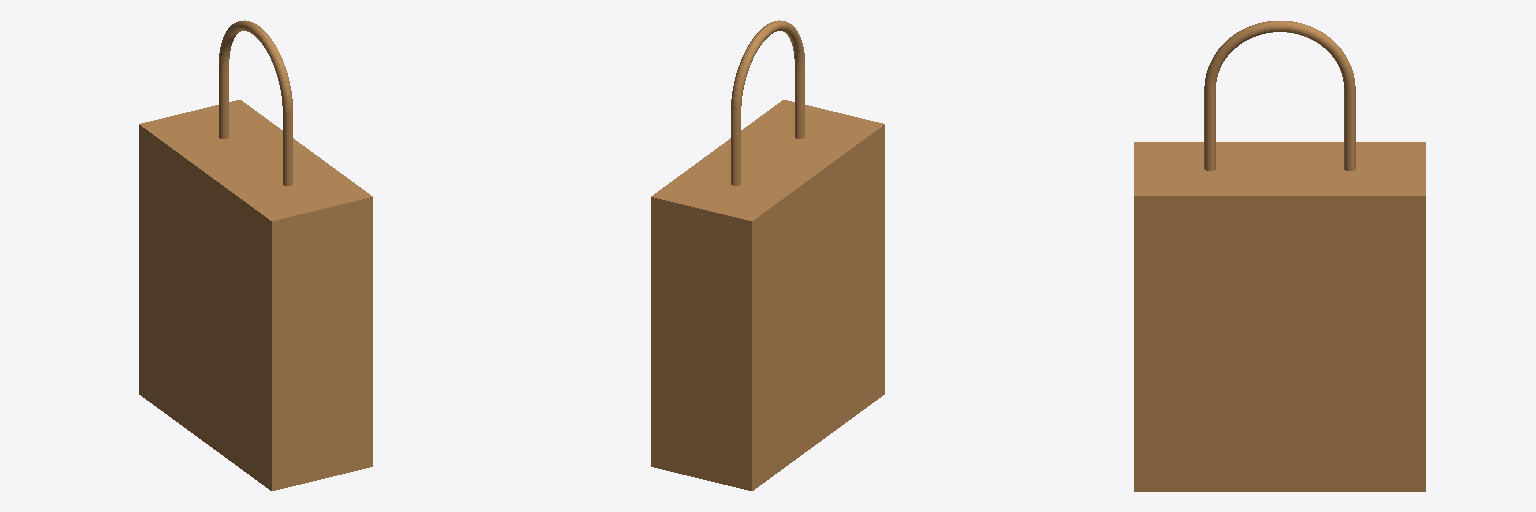
URDF robot description (robocup_bright_paper_bag):
<?xml version="1.0"?>
<robot name="robocup_bright_paper_bag">

  <!-- Main Bag Link (Parkson Paper Bag Original: 28cm H x 25cm W x 11cm D) -->
  <link name="paper_bag_link">
    
    <!-- Inertial properties for physics simulators (Gazebo) -->
    <inertial>
      <origin xyz="0.0 0.0 0.14" rpy="0 0 0"/>
      <!-- Lightweight kraft paper bag approximation (0.12 kg) -->
      <mass value="0.12"/>
      <inertia ixx="0.0014" ixy="0.0" ixz="0.0" iyy="0.0009" iyz="0.0" izz="0.0007"/>
    </inertial>

    <!-- Visual Representation: Authentic Parkson Kraft Paper Bag with Smooth Semicircular Handle -->
    <visual>
      <origin xyz="0.0 0.0 0.0" rpy="0 0 0"/>
      <geometry>
        <mesh filename="package://so100_description/meshes/parkson_bag_full.stl"/>
      </geometry>
      <material name="parkson_kraft_brown">
        <color rgba="0.76 0.58 0.38 1.0"/>
      </material>
    </visual>

    <!-- Collision Geometry for Grasping / Manipulation -->
    <collision>
      <origin xyz="0.0 0.0 0.0" rpy="0 0 0"/>
      <geometry>
        <mesh filename="package://so100_description/meshes/parkson_bag_full.stl"/>
      </geometry>
    </collision>
    
  </link>

  <!-- Gazebo-specific extensions for physical behavior -->
  <gazebo reference="paper_bag_link">
    <material>Gazebo/Wood</material>
    <mu1>0.6</mu1>
    <mu2>0.6</mu2>
    <kp>100000.0</kp>
    <kd>1.0</kd>
    <maxVel>0.1</maxVel>
    <minDepth>0.001</minDepth>
    <provideFeedback>true</provideFeedback>
  </gazebo>

</robot>

--- Render facts (derived) ---
3 views of the same robot in one strip: view 1: azimuth 30°, elevation 25°; view 2: azimuth 150°, elevation 25°; view 3: azimuth 270°, elevation 25° (orthographic).
Model robocup_bright_paper_bag with 1 links and 0 joints (none), rooted at paper_bag_link, posed all joints at 0.
Links seen in each view (by area): view 1: paper_bag_link; view 2: paper_bag_link; view 3: paper_bag_link.
Boxes of the visible links, x1,y1,x2,y2 form: paper_bag_link: (139, 20, 372, 490); paper_bag_link: (651, 20, 884, 490); paper_bag_link: (1134, 21, 1425, 491).
Bounding box of the posed robot: 0.11 × 0.25 × 0.42 m (x, y, z).
Meshes: 1 distinct files referenced, 1 mesh visuals loaded (1 binary STL).
